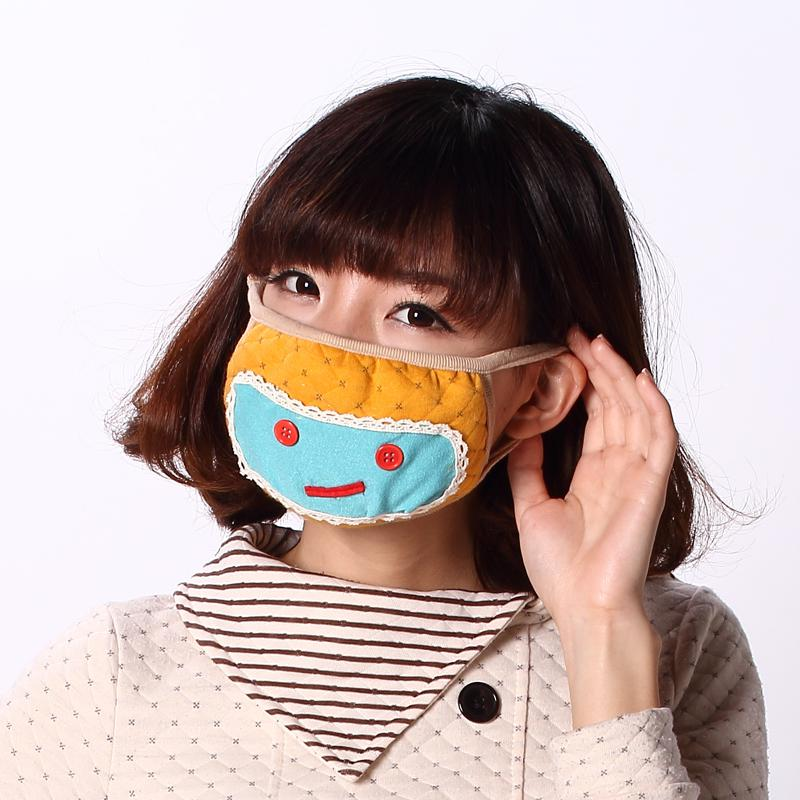OK: (219, 223, 519, 523)
